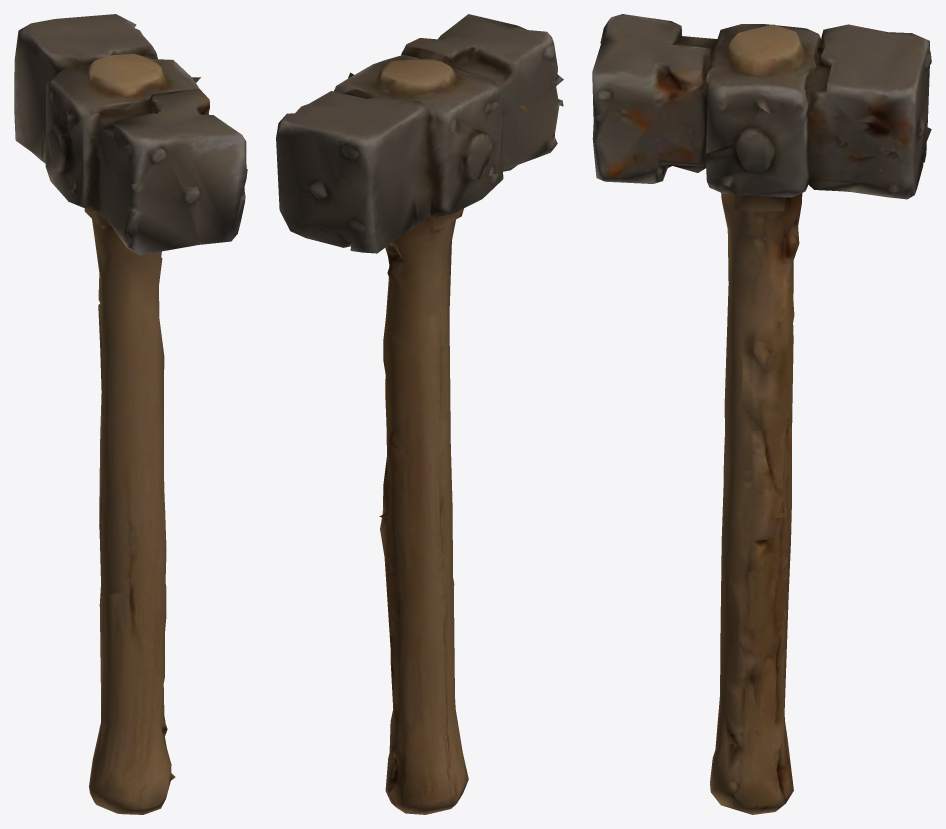
File: sledgehammer_slim_lod1.glb
3 views of the same model, side by side, from view 1: azimuth 30°, elevation 25°; view 2: azimuth 150°, elevation 25°; view 3: azimuth 270°, elevation 25° (orthographic). The views are drawn at different scales.
Visible parts, largest first — view 1: sledgehammer_slim; view 2: sledgehammer_slim; view 3: sledgehammer_slim.
Part boxes in pixels (left/top/right/bottom): sledgehammer_slim: left=14, top=14, right=247, bottom=814; sledgehammer_slim: left=276, top=14, right=563, bottom=814; sledgehammer_slim: left=592, top=14, right=931, bottom=814.
Bounding box in the file's own units: 0.1832 × 0.9106 × 0.3668.
1 material, 1 textured.
